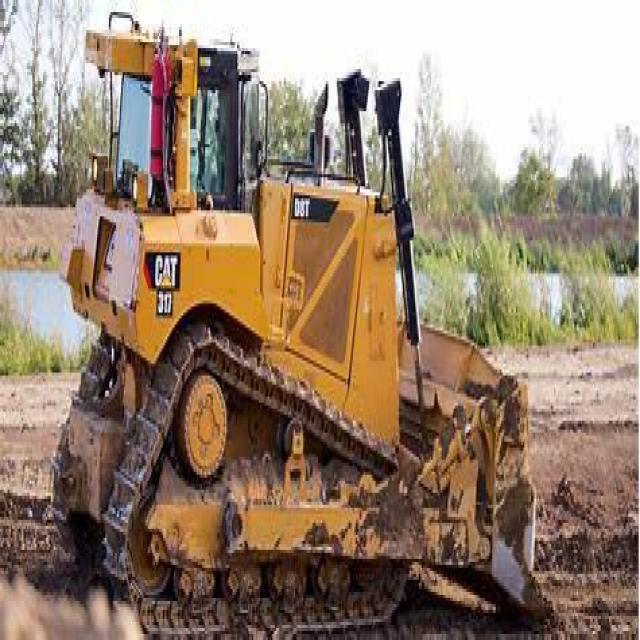Bulldozer: (51, 15, 566, 637)
